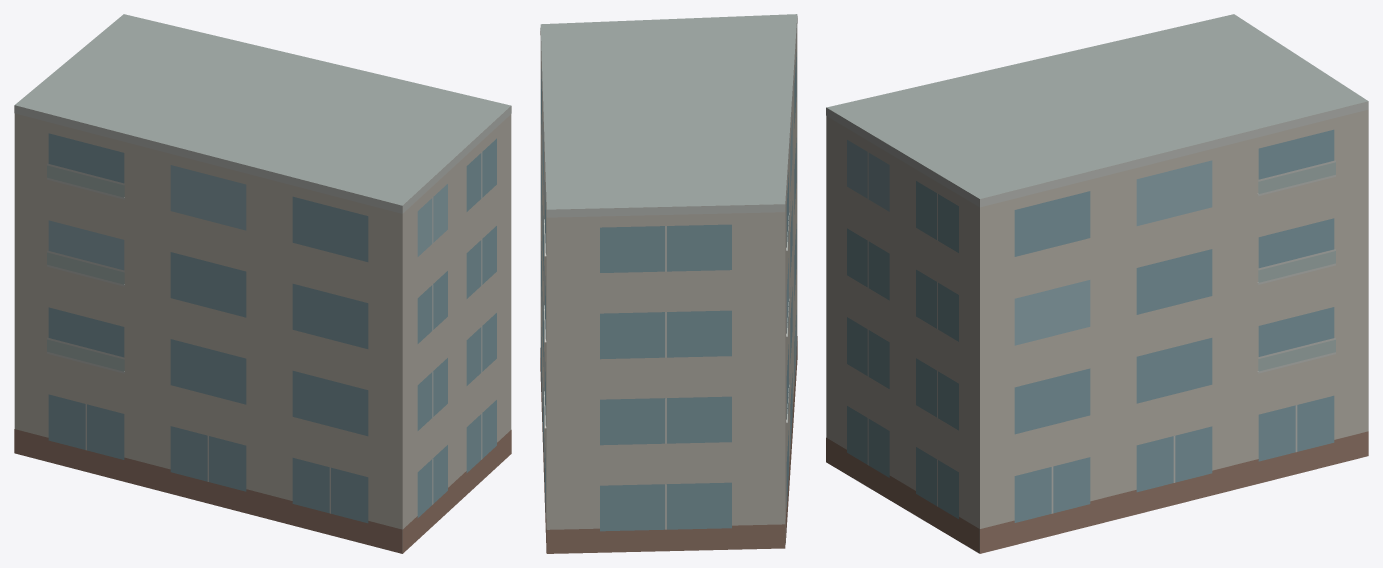
File: survey-upis-32589998.glb
3 views of the same model, side by side, from view 1: azimuth 30°, elevation 25°; view 2: azimuth 150°, elevation 25°; view 3: azimuth 270°, elevation 25° (orthographic). The views are drawn at different scales.
Parts seen in each view (by area): view 1: survey-upis-32589998.tmp; view 2: survey-upis-32589998.tmp; view 3: survey-upis-32589998.tmp.
Boxes of the visible parts, bbox=[...] form: survey-upis-32589998.tmp: bbox=[14, 14, 511, 553]; survey-upis-32589998.tmp: bbox=[540, 14, 797, 553]; survey-upis-32589998.tmp: bbox=[826, 14, 1368, 553].
Bounding box in the file's own units: 11.65 × 10.4 × 14.42.
